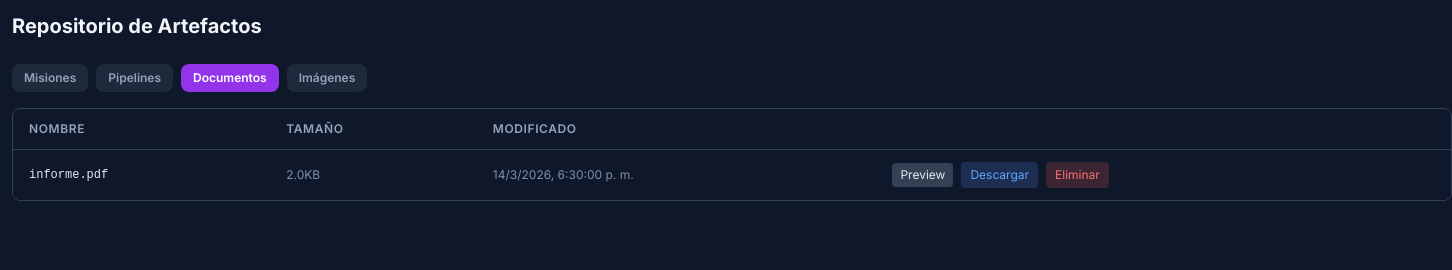
Test: AdminRepository -- la pestaña "Pipelines" muestra el historial ahí mismo (no redirige, ya no es una carpeta vacía) › sin pipelines, dice "todavía no corriste ninguno" -- el mismo texto que /historial, no "Sin archivos"
The image size is (1452, 270).
Expected: the text "informe.pdf" is shown, [13,150,270,200]
Click the button "Pipelines" at (135, 78), box [96,64,173,92]
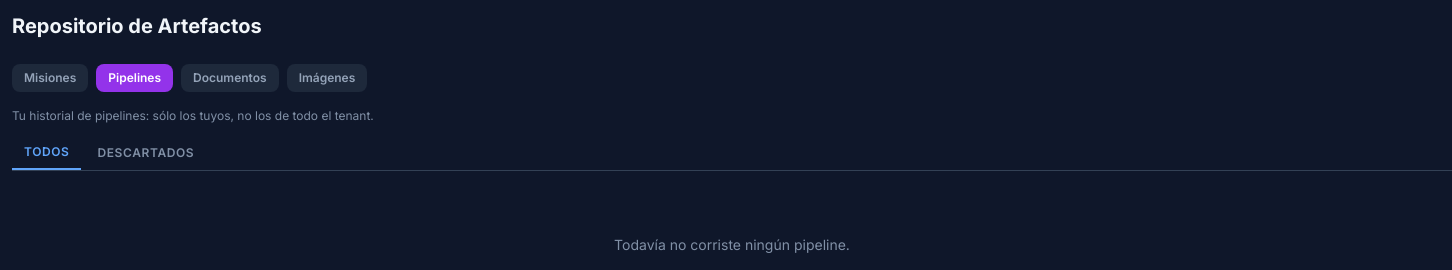
Expected: the text "Todavía no corriste ningún pipeline." is shown, [614,236,850,253]
